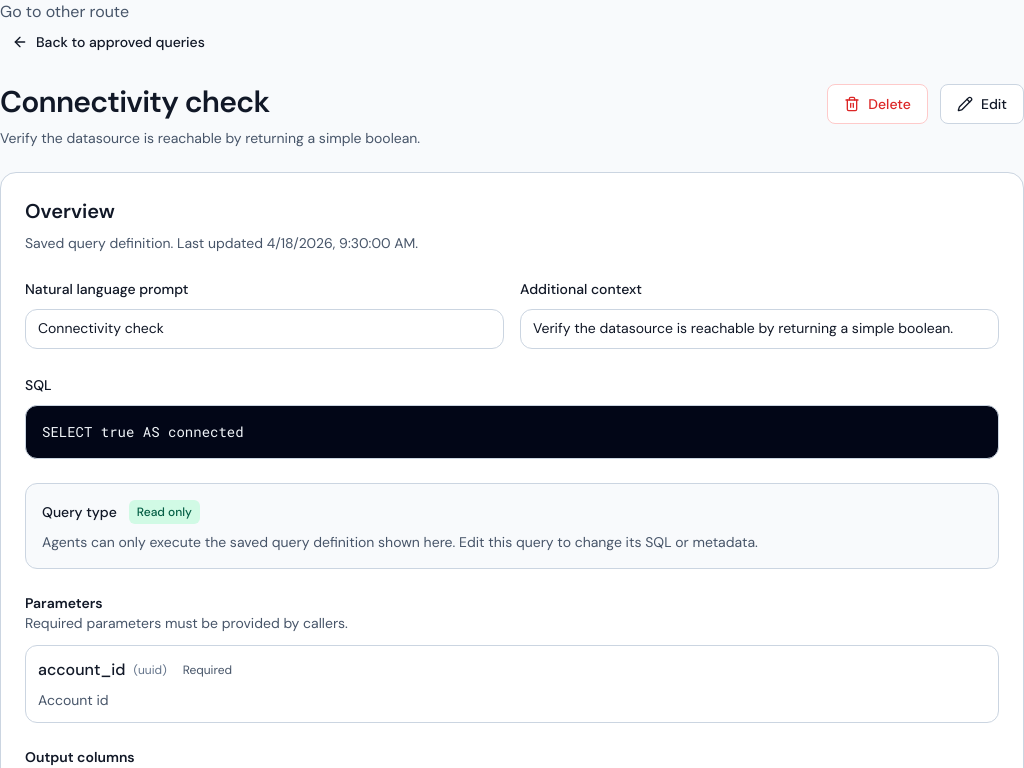
Test: QueryDetailPage › deletes the saved query from the detail page
Click the button "Delete": point(878, 104) 827,84 -> 928,124
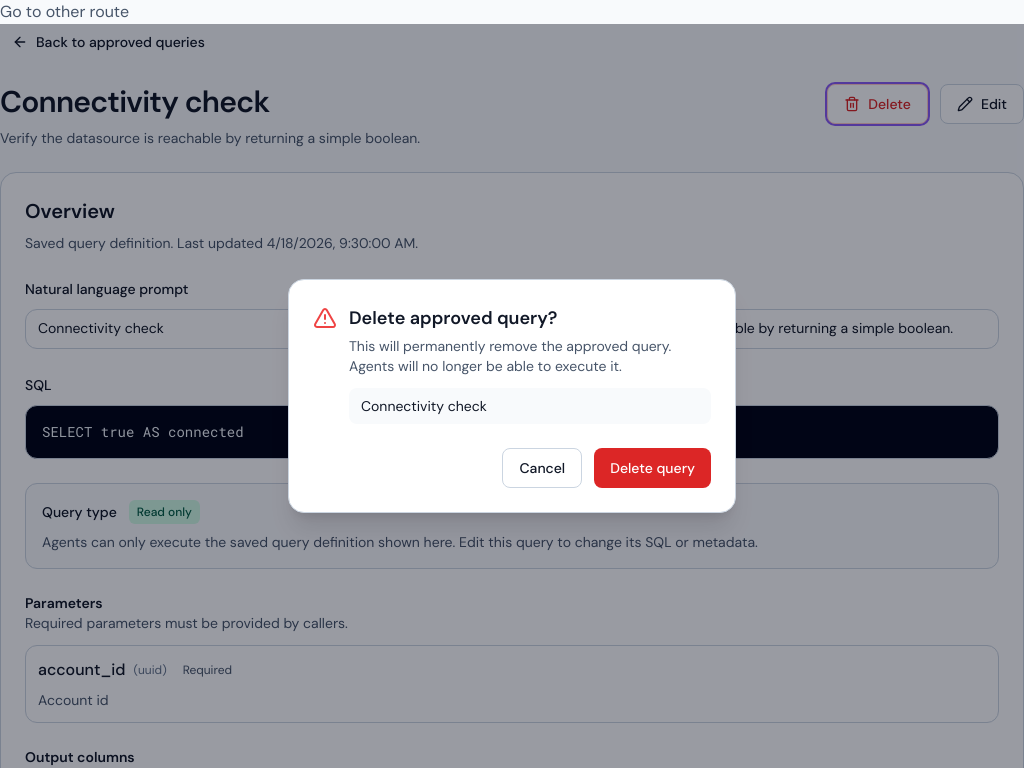
Click the button "Delete query": point(653, 468) 594,448 -> 711,488
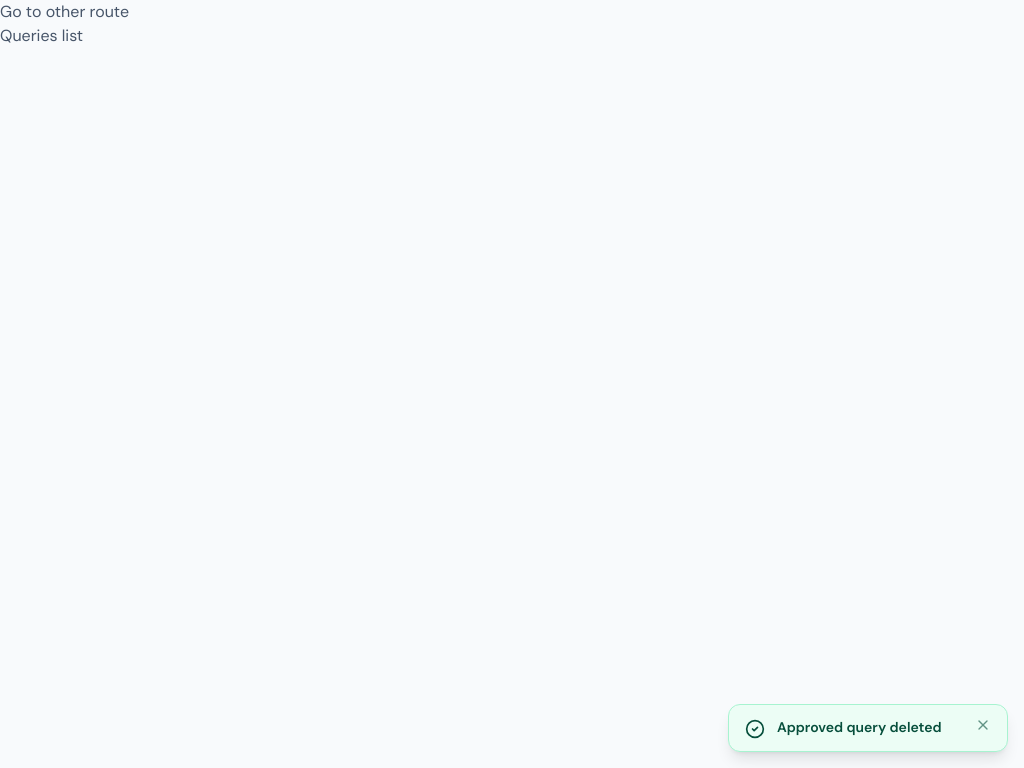
Result: the text "Queries list" is shown at 0,25 -> 83,46
